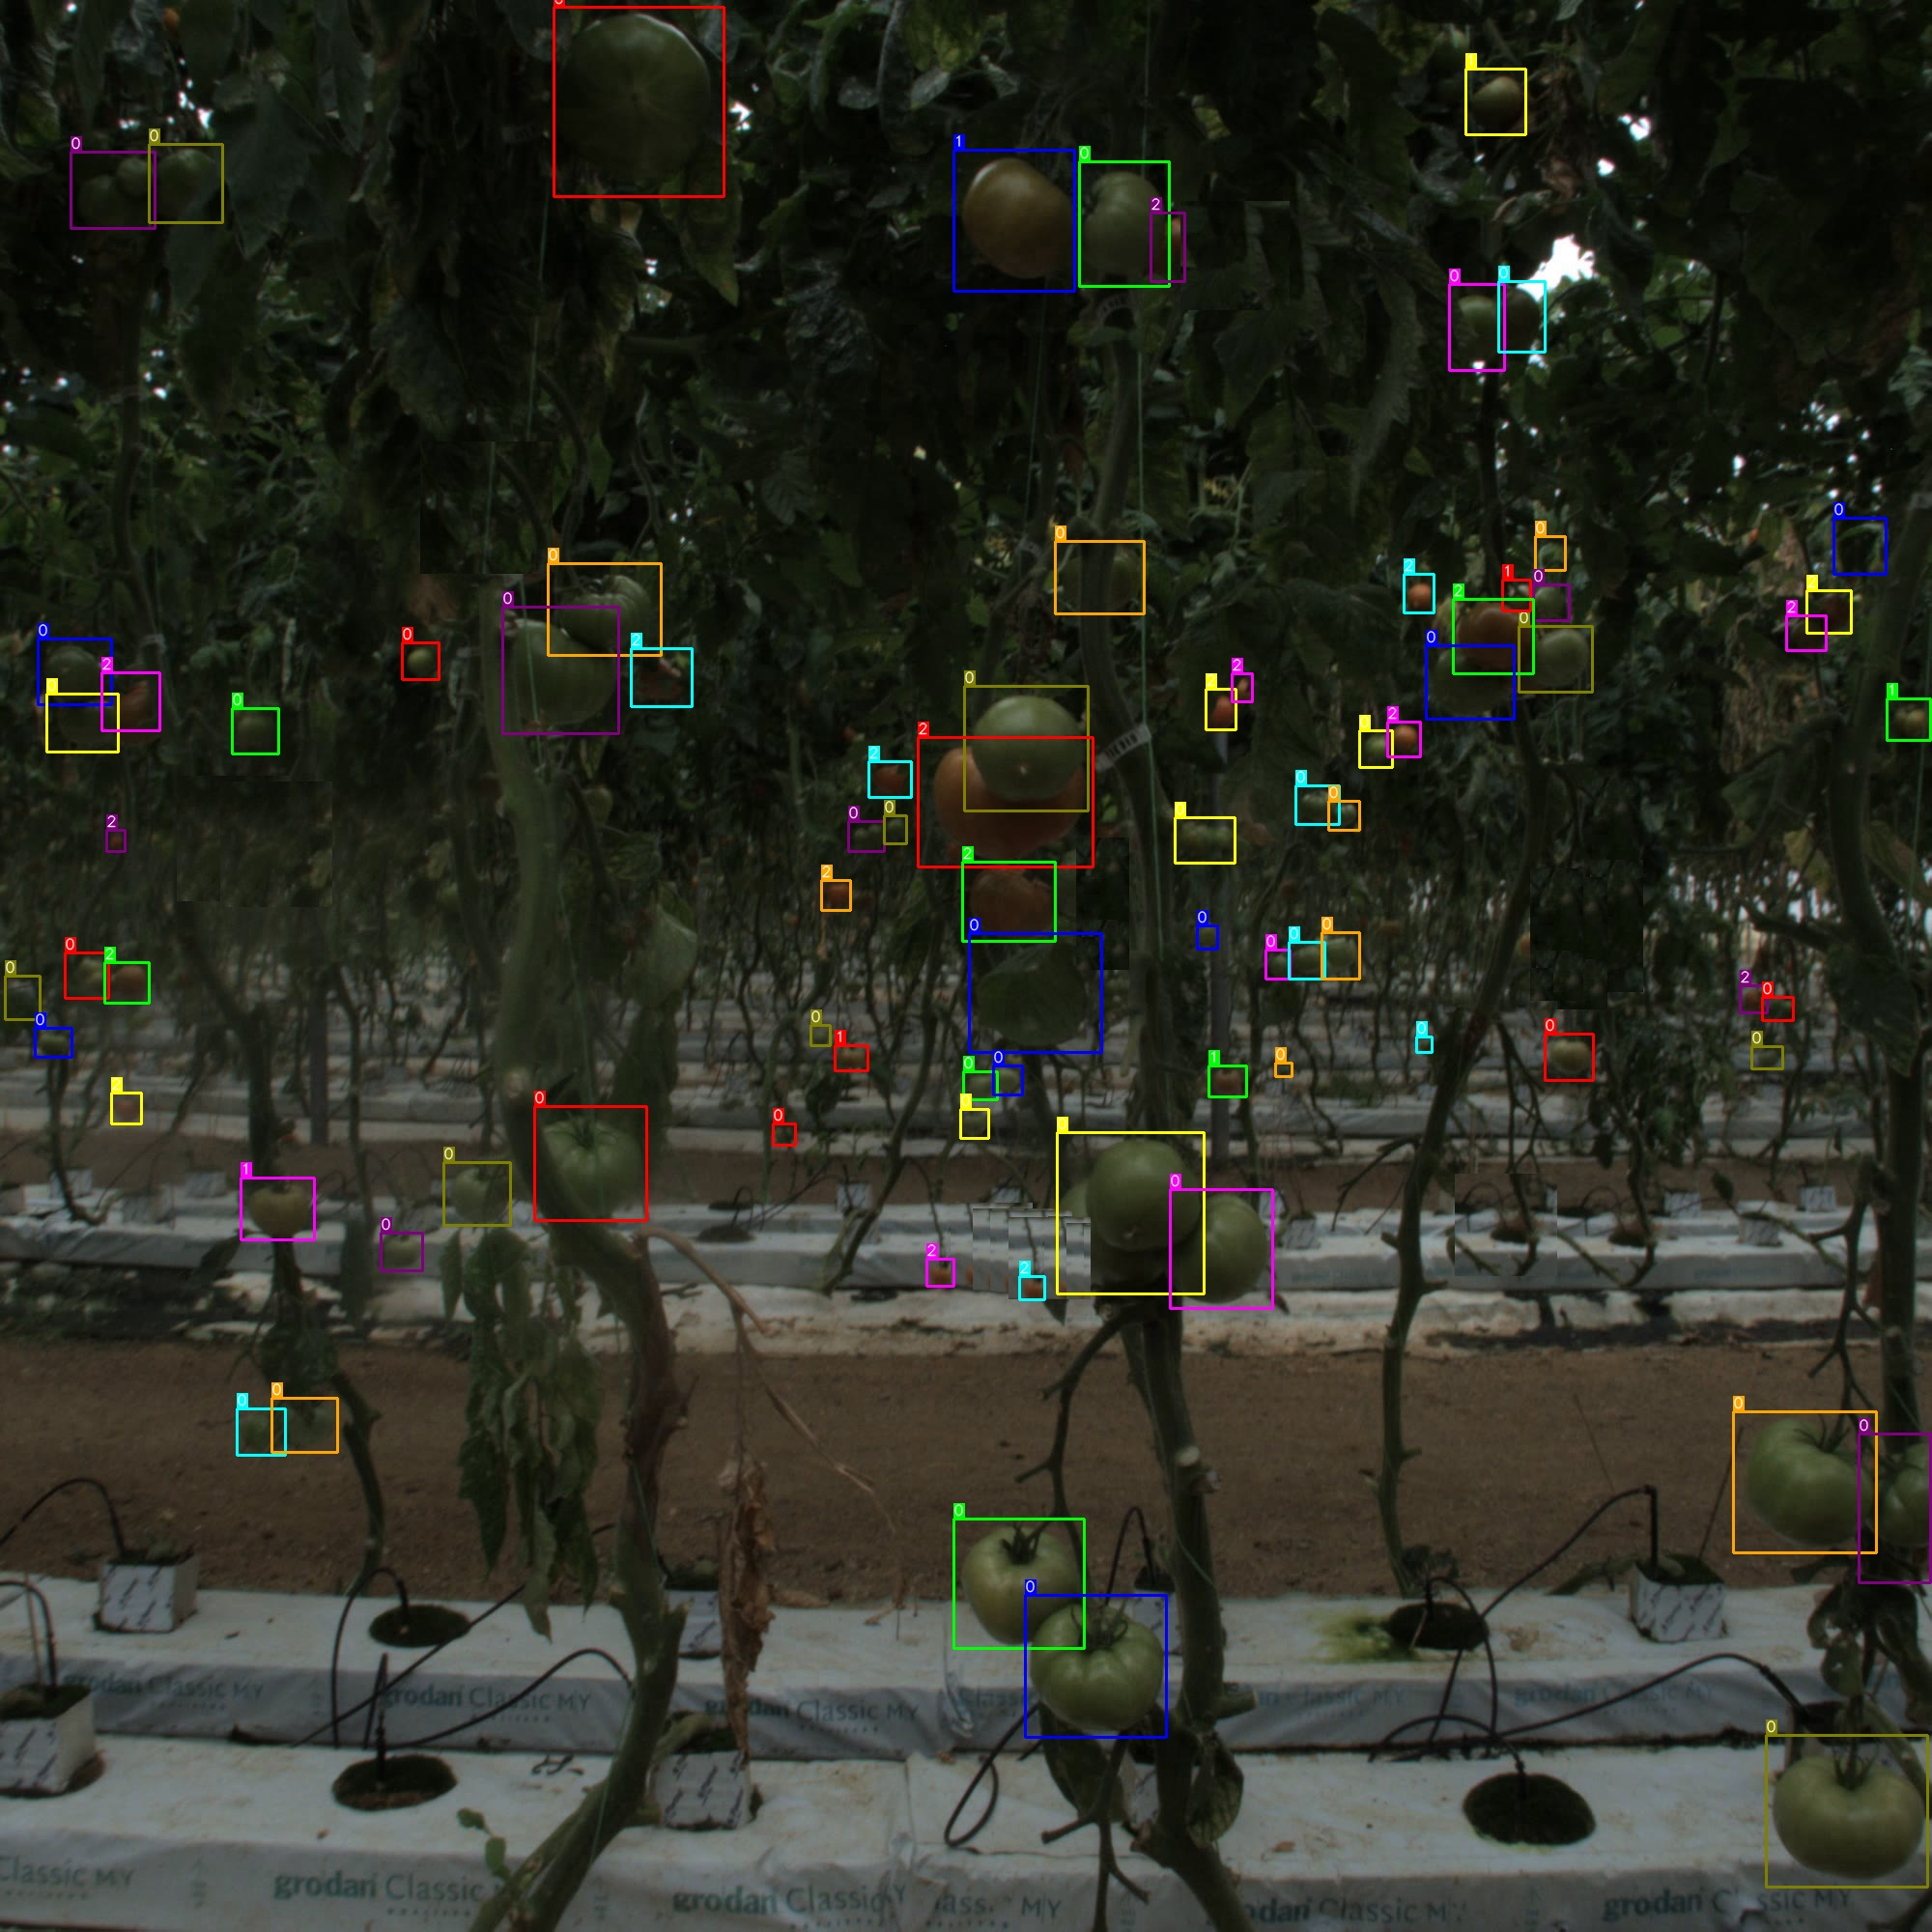MatureStage: (918, 738, 1093, 867), (962, 862, 1056, 941), (1453, 600, 1534, 674), (632, 648, 692, 708), (101, 672, 161, 731), (1150, 212, 1185, 281), (1806, 591, 1852, 633), (104, 962, 150, 1003), (869, 761, 911, 796), (1787, 616, 1826, 651), (1205, 688, 1235, 729), (1403, 573, 1433, 614), (1387, 722, 1421, 757), (821, 879, 851, 911), (111, 1093, 142, 1123), (927, 1258, 954, 1286), (1739, 985, 1767, 1012), (1019, 1276, 1046, 1300), (1231, 674, 1253, 702), (106, 830, 124, 851)
TurningStage: (954, 150, 1074, 292), (241, 1178, 315, 1240), (1465, 69, 1525, 134), (1886, 699, 1930, 741), (1208, 1065, 1247, 1097), (1502, 580, 1530, 610), (835, 1046, 867, 1070)
WhiteStage: (554, 7, 725, 196), (1766, 1736, 1928, 1888), (1056, 1132, 1203, 1293), (1024, 1594, 1166, 1737), (1734, 1412, 1875, 1553), (954, 1518, 1085, 1647), (970, 932, 1100, 1053), (964, 686, 1088, 810), (502, 607, 617, 734), (534, 1106, 648, 1221), (1169, 1189, 1274, 1309), (1079, 161, 1169, 287), (1859, 1433, 1930, 1583), (548, 563, 660, 655), (1426, 646, 1514, 720), (1054, 541, 1143, 614), (71, 152, 154, 228), (149, 143, 223, 223), (37, 639, 111, 706), (1518, 626, 1592, 692), (1449, 285, 1504, 370), (444, 1162, 511, 1226), (46, 694, 119, 752), (271, 1398, 338, 1453), (1499, 281, 1546, 352), (1833, 518, 1886, 575), (1175, 817, 1235, 863), (1545, 1033, 1592, 1081), (232, 708, 280, 754), (237, 1408, 285, 1454), (65, 952, 110, 998), (1322, 932, 1359, 980), (1295, 786, 1339, 824), (380, 1233, 423, 1270), (5, 975, 39, 1019), (402, 642, 439, 679), (1288, 941, 1325, 978), (1534, 584, 1569, 621), (1359, 731, 1392, 768), (847, 821, 885, 851), (1536, 536, 1566, 571), (35, 1028, 71, 1056), (1329, 801, 1361, 832), (962, 1072, 998, 1099), (993, 1065, 1023, 1095), (961, 1109, 989, 1139), (1762, 996, 1792, 1021), (1752, 1046, 1783, 1069), (1265, 950, 1290, 978), (885, 816, 908, 844), (1196, 925, 1219, 948), (773, 1123, 796, 1145), (810, 1024, 830, 1046), (1415, 1037, 1433, 1053), (1276, 1063, 1293, 1076)
